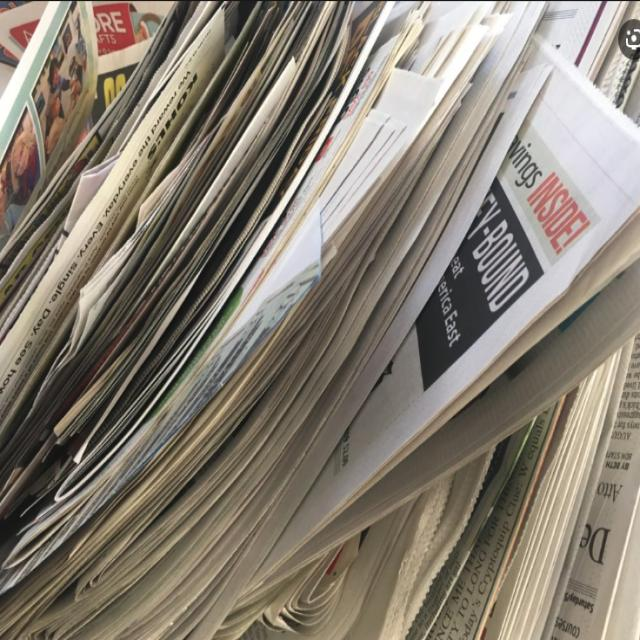Koran: (1, 1, 640, 640)
